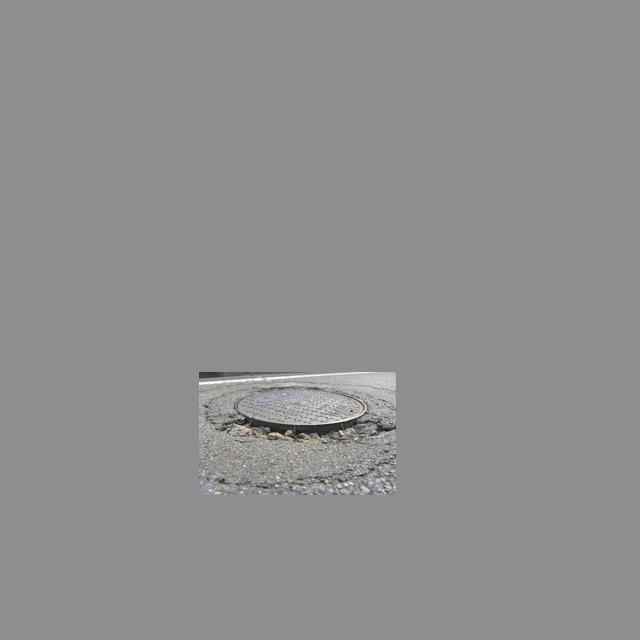circle: (205, 383, 388, 447)
